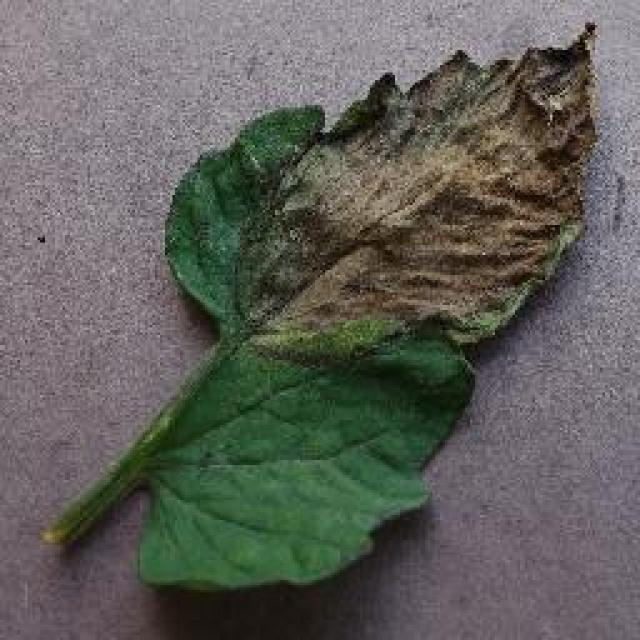Tomato late blight leaf: (140, 20, 604, 595)
